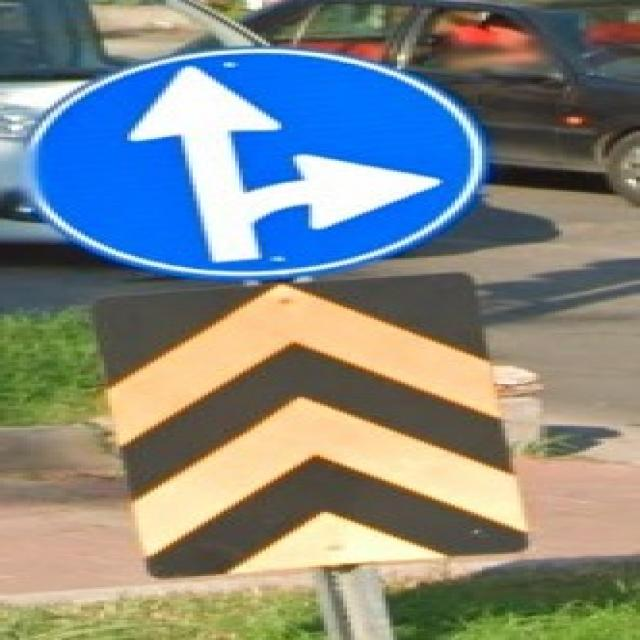Straight or Right: (42, 48, 477, 269)
